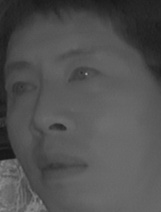eye: (65, 64, 106, 83), (8, 77, 39, 98)
mouth: (32, 148, 91, 183)
